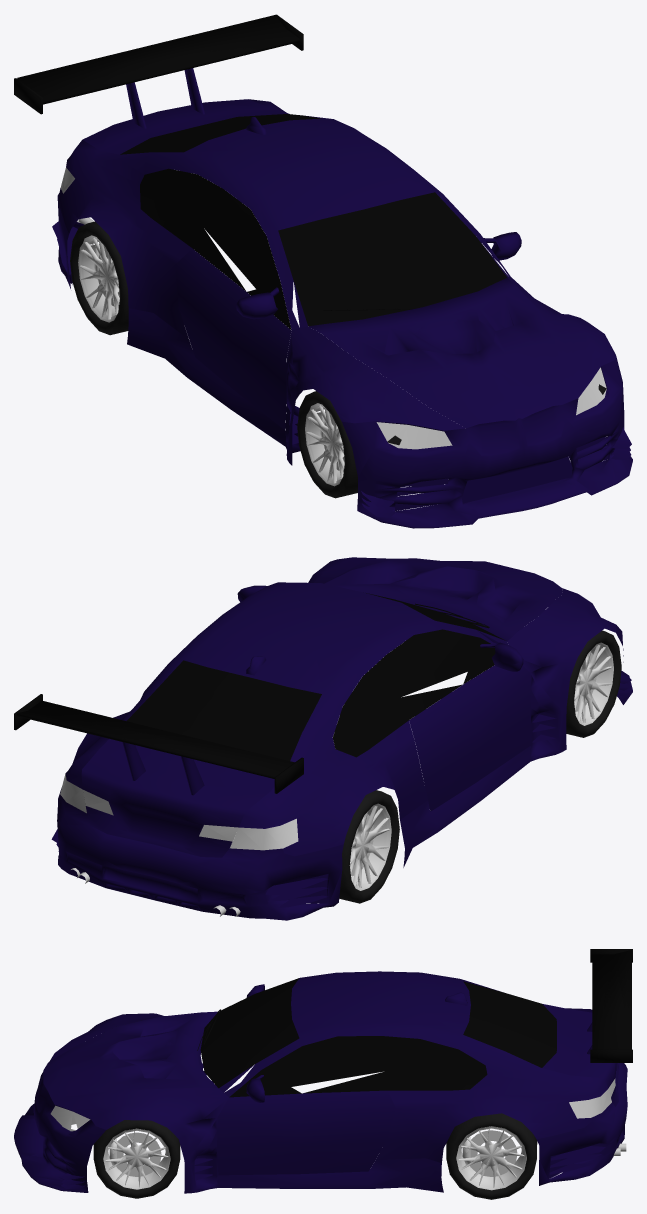
File: purplecar.gltf
The picture shows the model from 3 angles, top to bottom: view 1: azimuth 30°, elevation 25°; view 2: azimuth 150°, elevation 25°; view 3: azimuth 270°, elevation 25°; orthographic projection. The views are drawn at different scales.
Visible parts, largest first — view 1: polySurface38.142, polySurface38.154, polySurface38.146, polySurface38.145, polySurface38.143, polySurface38.135, polySurface38.134, polySurface38.114, polySurface38.155, polySurface38.115, polySurface38.139, polySurface38.083 (+10 smaller); view 2: polySurface38.142, polySurface38.141, polySurface38.139, polySurface38.140, polySurface38.143, polySurface38.146, polySurface38.135, polySurface38.114, polySurface38.134, polySurface38.155, polySurface38.000, polySurface38.083 (+9 smaller); view 3: polySurface38.142, polySurface38.144, polySurface38.136, polySurface38.146, polySurface38.115, polySurface38.145, polySurface38.156, polySurface38.154, polySurface38.140, polySurface38.141, polySurface38.134, polySurface38.139 (+13 smaller).
Boxes of the visible parts, box(x1,y1,x2,y2) form: polySurface38.142: box(58, 99, 510, 339); polySurface38.154: box(342, 356, 632, 528); polySurface38.146: box(309, 278, 562, 428); polySurface38.145: box(278, 192, 507, 326); polySurface38.143: box(175, 248, 291, 430); polySurface38.135: box(140, 168, 291, 329); polySurface38.134: box(17, 15, 299, 104); polySurface38.114: box(286, 326, 465, 430); polySurface38.155: box(127, 308, 300, 465); polySurface38.115: box(508, 277, 616, 404); polySurface38.139: box(82, 99, 286, 154); polySurface38.083: box(70, 221, 128, 335); polySurface38.142: box(58, 582, 508, 856); polySurface38.141: box(57, 794, 343, 920); polySurface38.139: box(81, 739, 274, 857); polySurface38.140: box(126, 660, 321, 760); polySurface38.143: box(409, 665, 530, 811); polySurface38.146: box(324, 560, 562, 643); polySurface38.135: box(333, 629, 495, 757); polySurface38.114: box(507, 588, 616, 707); polySurface38.134: box(16, 700, 294, 778); polySurface38.155: box(400, 699, 567, 867); polySurface38.000: box(60, 773, 298, 850); polySurface38.083: box(339, 790, 399, 903); polySurface38.142: box(219, 971, 608, 1162); polySurface38.144: box(217, 1090, 395, 1175); polySurface38.136: box(229, 1036, 487, 1097); polySurface38.146: box(43, 1011, 217, 1097); polySurface38.115: box(51, 1087, 228, 1154); polySurface38.145: box(200, 978, 299, 1088); polySurface38.156: box(183, 1146, 443, 1193); polySurface38.154: box(14, 1026, 105, 1192); polySurface38.140: box(463, 981, 556, 1067); polySurface38.141: box(536, 1063, 627, 1185); polySurface38.134: box(592, 950, 631, 1049); polySurface38.139: box(542, 1004, 618, 1106).
Bounding box in the file's own units: 1.91 × 1.26 × 4.58.
